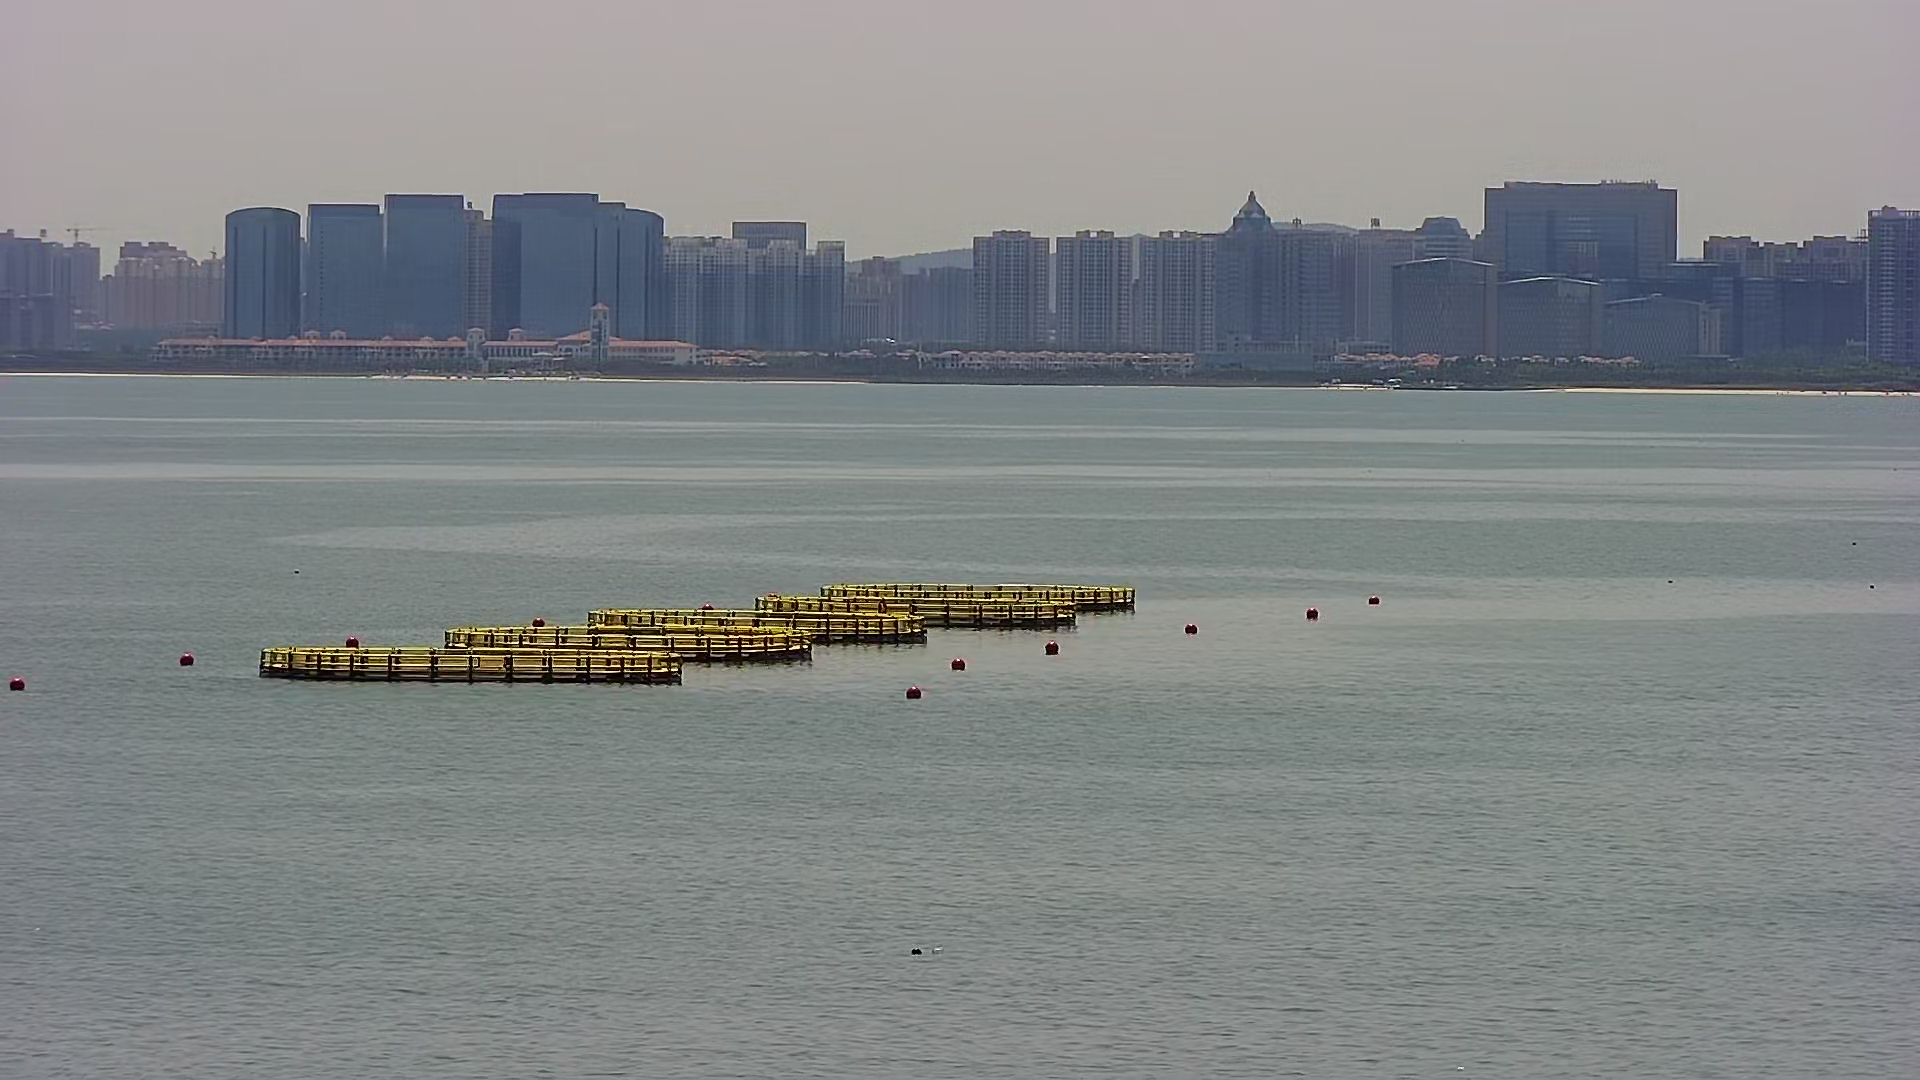ball: (171, 640, 210, 678), (1, 669, 44, 702), (1030, 638, 1075, 667), (897, 678, 934, 711), (1296, 595, 1328, 632), (1180, 613, 1207, 649), (942, 653, 978, 674), (1364, 583, 1385, 615)
platform: (255, 575, 1135, 690)
